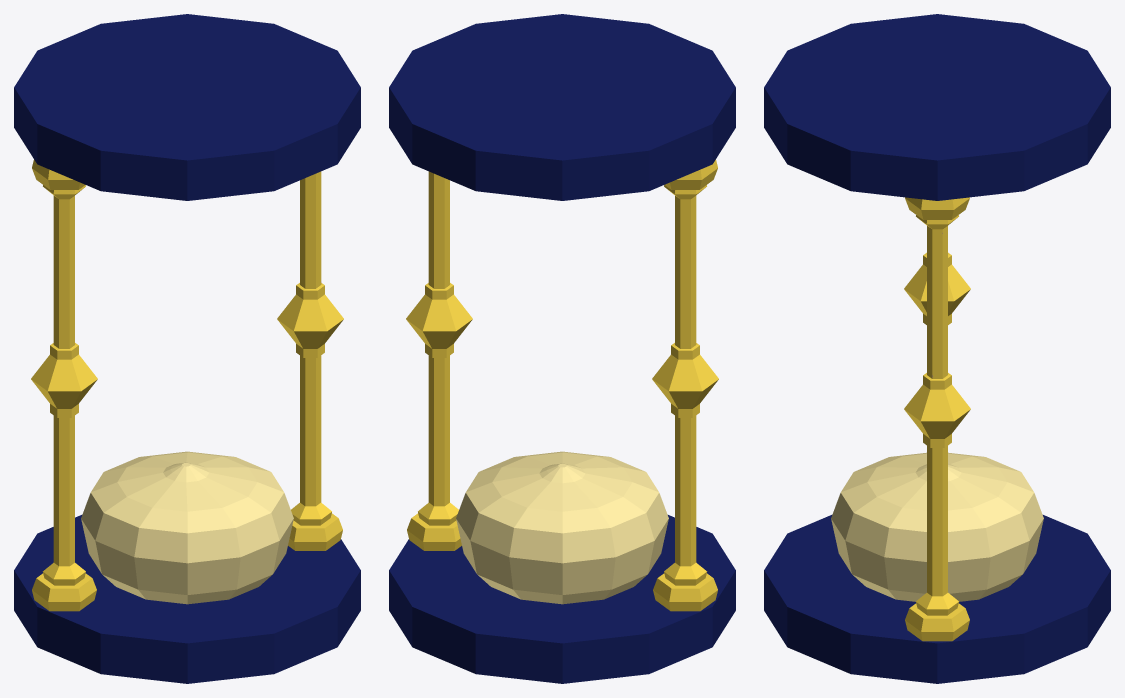
File: Hourglass.fbx
3 views of the same model, side by side, from view 1: azimuth 30°, elevation 25°; view 2: azimuth 150°, elevation 25°; view 3: azimuth 270°, elevation 25° (orthographic).
Parts seen in each view (by area): view 1: Cylinder.010; view 2: Cylinder.010; view 3: Cylinder.010.
Boxes of the visible parts, box(x1,y1,x2,y2) form: Cylinder.010: box(14, 14, 360, 683); Cylinder.010: box(389, 14, 735, 683); Cylinder.010: box(764, 14, 1110, 683).
Bounding box in the file's own units: 56.14 × 93.51 × 56.14.
Materials: 1 (1 with a texture image).
